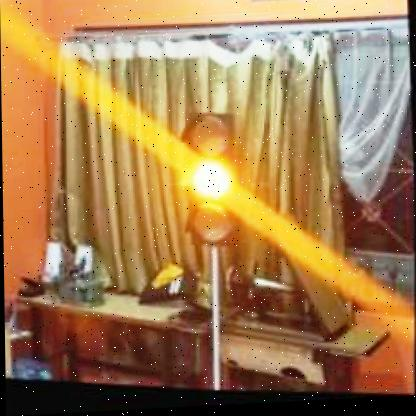Traffic Light -Yellow-: (182, 114, 241, 254)
